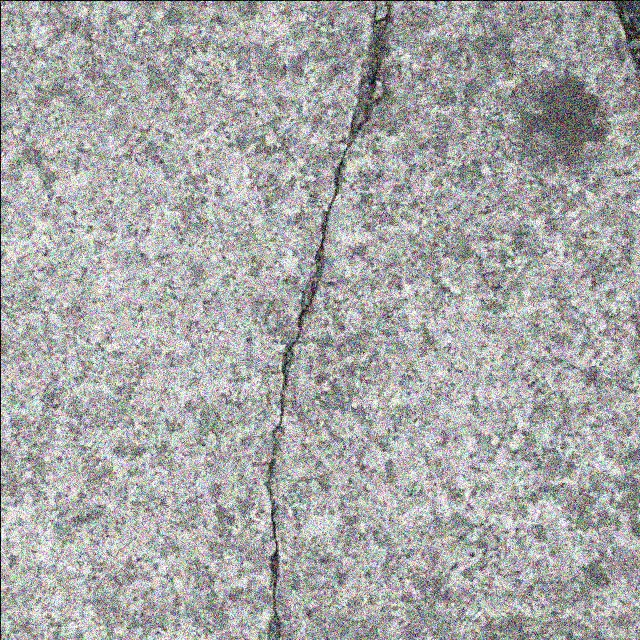SurfaceCrack: (220, 0, 434, 640)
